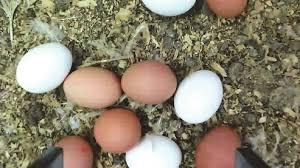egg: (16, 42, 73, 96), (176, 68, 224, 123), (64, 66, 123, 109), (122, 62, 178, 103), (94, 106, 141, 153), (195, 123, 239, 168), (126, 133, 181, 168), (62, 131, 94, 168)
